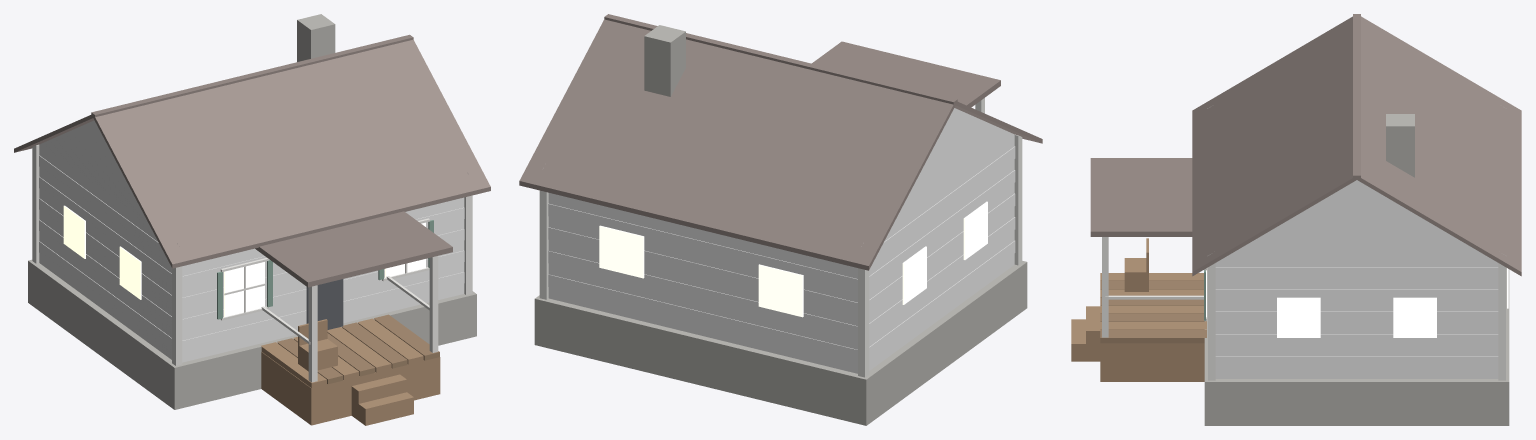
Rendered from town_edge.glb.
3 renders of one model, left to right at view 1: azimuth 30°, elevation 25°; view 2: azimuth 150°, elevation 25°; view 3: azimuth 270°, elevation 25°, orthographic. The views are drawn at different scales.
Parts seen in each view (by area): view 1: te_house_trim_mesh, te_house_wall_mesh; view 2: te_house_trim_mesh, te_house_wall_mesh; view 3: te_house_trim_mesh, te_house_wall_mesh.
Boxes of the visible parts, bbox=[...] form: te_house_trim_mesh: bbox=[14, 14, 490, 425]; te_house_wall_mesh: bbox=[39, 120, 464, 362]; te_house_trim_mesh: bbox=[519, 14, 1042, 425]; te_house_wall_mesh: bbox=[543, 108, 1015, 373]; te_house_trim_mesh: bbox=[1071, 14, 1521, 425]; te_house_wall_mesh: bbox=[1207, 107, 1506, 378].
Size of the model in its own units: 7.9 by 6.2 by 9.3.
